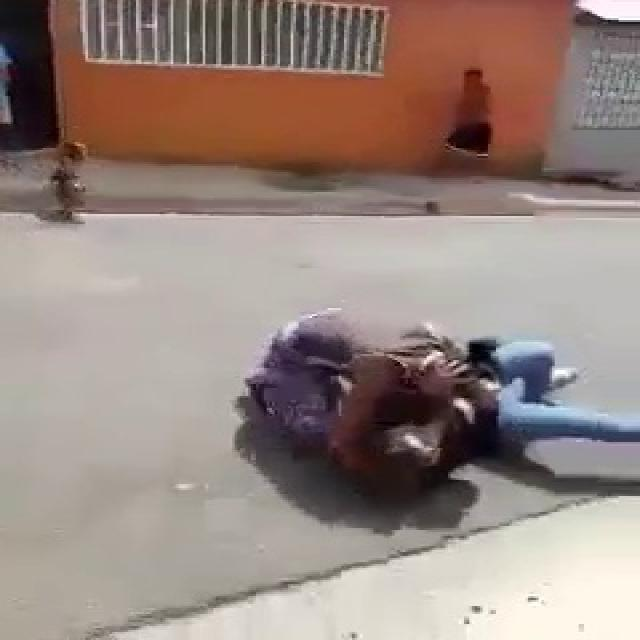Violence: (234, 304, 640, 504)
